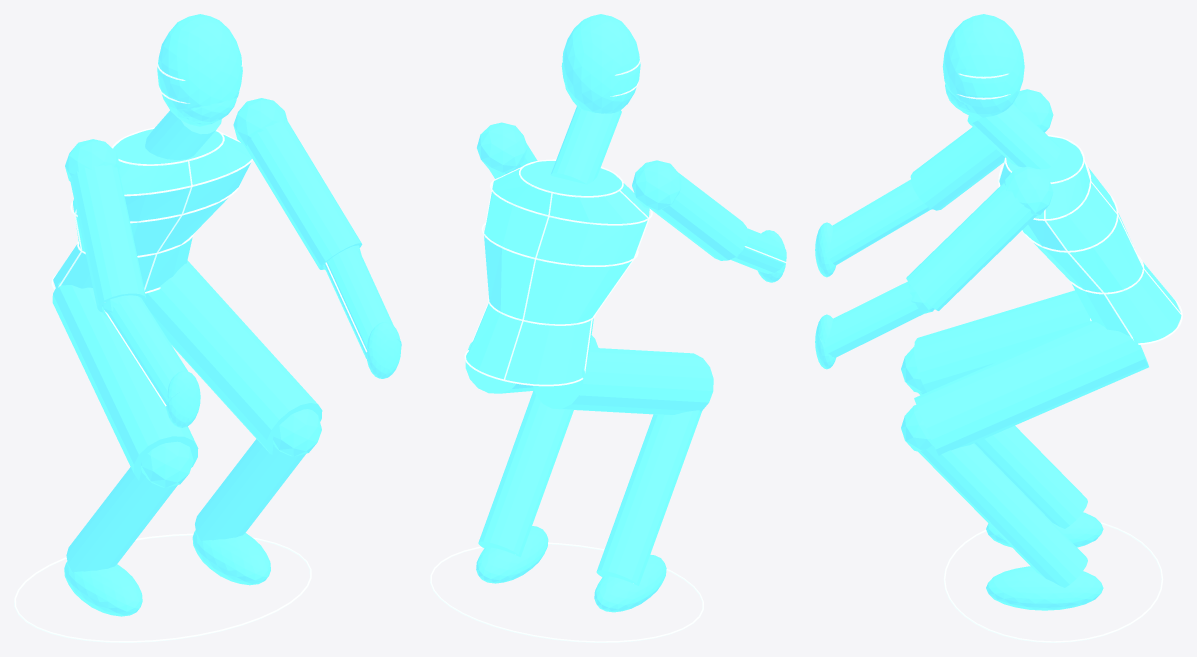
File: ghost-crouching.glb
3 views of the same model, side by side, from view 1: azimuth 30°, elevation 25°; view 2: azimuth 150°, elevation 25°; view 3: azimuth 270°, elevation 25° (orthographic). The views are drawn at different scales.
Visible parts, largest first — view 1: 026_thigh, 001_torso, 009_thigh, 022_upper_arm, 005_upper_arm, 003_head, 011_shin, 028_shin, 007_forearm, 024_forearm, 017_foot, 034_foot (+8 smaller); view 2: 001_torso, 009_thigh, 011_shin, 028_shin, 003_head, 005_upper_arm, 002_neck, 017_foot, 034_foot, 030_shoulder, 013_shoulder, 007_forearm (+1 smaller); view 3: 026_thigh, 001_torso, 028_shin, 009_thigh, 003_head, 022_upper_arm, 011_shin, 005_upper_arm, 007_forearm, 034_foot, 024_forearm, 002_neck (+7 smaller).
Boxes of the visible parts, x1,y1,x2,y2 form: 026_thigh: (144,260,322,454); 001_torso: (53,129,251,291); 009_thigh: (52,281,198,480); 022_upper_arm: (244,118,362,269); 005_upper_arm: (69,165,146,312); 003_head: (157,14,242,126); 011_shin: (66,467,177,572); 028_shin: (195,439,305,541); 007_forearm: (108,296,187,408); 024_forearm: (325,249,401,358); 017_foot: (64,562,142,616); 034_foot: (192,530,270,585); 001_torso: (466,161,649,384); 009_thigh: (533,347,713,414); 011_shin: (596,410,701,585); 028_shin: (478,390,573,557); 003_head: (561,14,640,113); 005_upper_arm: (650,172,748,260); 002_neck: (550,106,621,184); 017_foot: (594,554,666,612); 034_foot: (476,526,548,583); 030_shoulder: (477,122,527,172); 013_shoulder: (632,160,681,210); 007_forearm: (730,228,786,273); 026_thigh: (914,321,1148,455); 001_torso: (999,136,1181,343); 028_shin: (918,443,1087,587); 009_thigh: (914,290,1090,392); 003_head: (942,14,1024,118); 022_upper_arm: (906,182,1036,310); 011_shin: (918,390,1087,528); 005_upper_arm: (910,127,1004,210); 007_forearm: (825,179,930,265); 034_foot: (986,566,1103,610); 024_forearm: (818,281,923,357); 002_neck: (967,103,1060,169).
Bounding box in the file's own units: 0.684 × 1.43 × 0.844.
